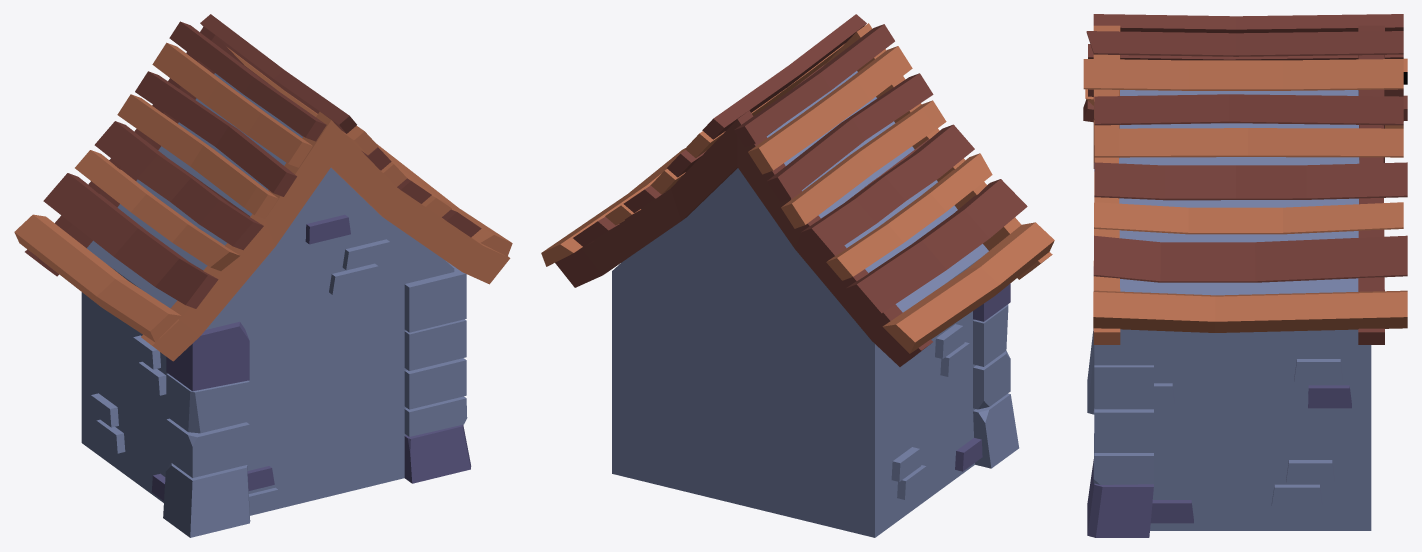
File: Building_02.fbx
The picture shows the model from 3 angles, left to right: view 1: azimuth 30°, elevation 25°; view 2: azimuth 150°, elevation 25°; view 3: azimuth 270°, elevation 25°; orthographic projection. The views are drawn at different scales.
Parts seen in each view (by area): view 1: Building_02, Roof_Wooden_02; view 2: Building_02, Roof_Wooden_02; view 3: Roof_Wooden_02, Building_02.
Boxes of the visible parts, box(x1,y1,x2,y2) form: Building_02: box(81, 73, 471, 537); Roof_Wooden_02: box(14, 14, 512, 361); Building_02: box(612, 71, 1019, 537); Roof_Wooden_02: box(541, 14, 1054, 366); Roof_Wooden_02: box(1083, 14, 1407, 344); Building_02: box(1087, 90, 1371, 537).
Size of the model in its own units: 529 by 535 by 360.
